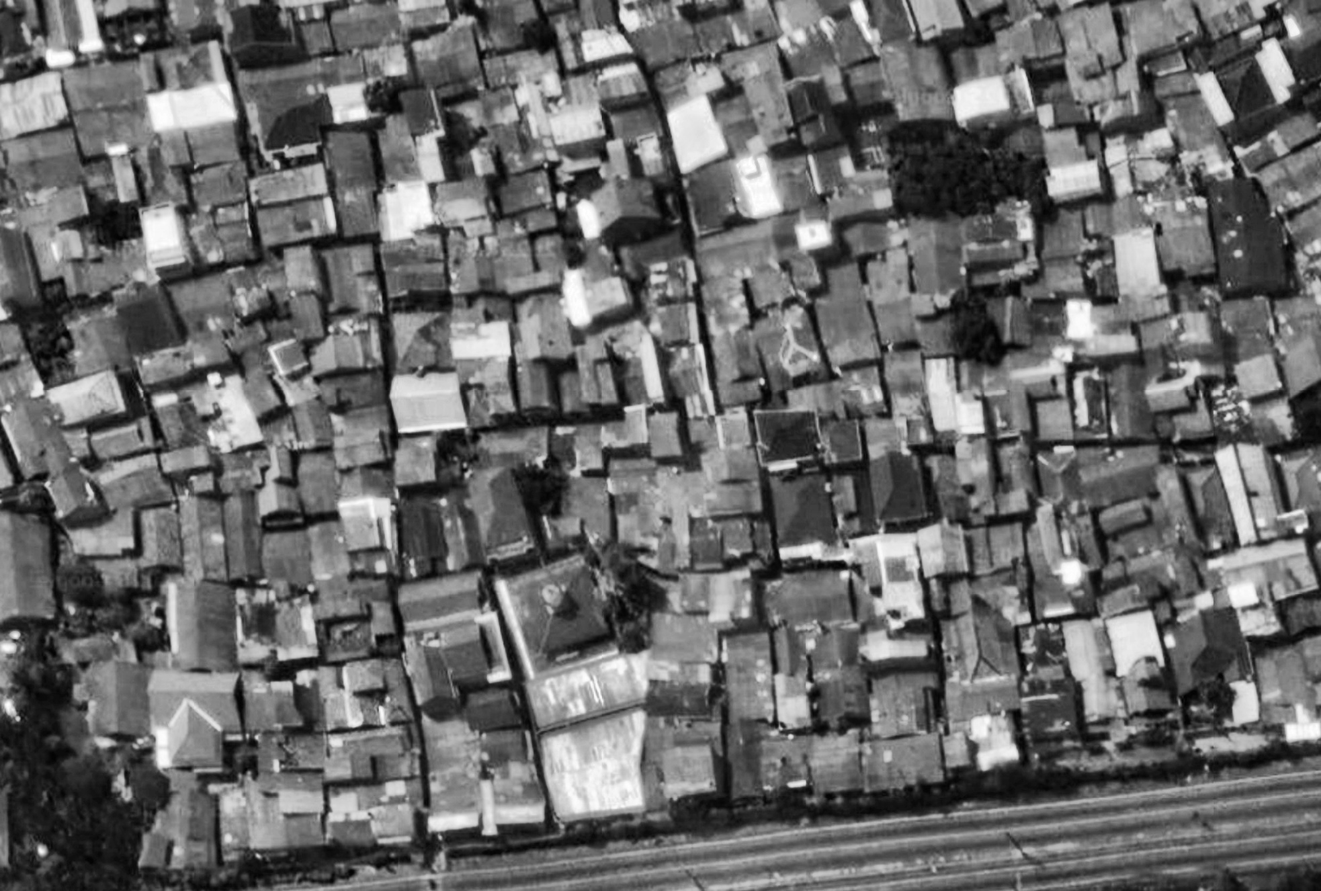building: (690, 212, 835, 407), (1230, 104, 1321, 295), (491, 549, 620, 680), (394, 570, 500, 718), (0, 389, 104, 532), (136, 39, 245, 174), (536, 707, 657, 824), (606, 452, 714, 579), (923, 350, 1070, 441), (523, 643, 659, 733), (1204, 171, 1295, 303), (1003, 619, 1086, 749), (146, 666, 245, 774), (1147, 66, 1236, 183), (59, 55, 156, 162), (1206, 529, 1321, 618), (445, 295, 521, 429), (1158, 595, 1256, 698), (233, 47, 336, 140), (317, 654, 415, 746), (1212, 435, 1291, 548), (419, 704, 487, 835), (459, 459, 540, 567), (692, 217, 796, 299), (570, 168, 669, 254), (165, 255, 267, 338), (1054, 0, 1133, 106), (247, 161, 339, 252), (646, 612, 720, 725), (477, 723, 551, 833), (235, 769, 327, 854), (142, 772, 221, 870), (1057, 614, 1125, 727), (320, 125, 386, 241), (852, 531, 927, 632), (283, 243, 384, 318), (877, 35, 956, 130), (164, 573, 239, 673), (442, 88, 521, 181), (733, 42, 801, 149), (941, 593, 1018, 685), (1149, 182, 1218, 283), (56, 235, 150, 308), (392, 564, 490, 633), (1032, 298, 1139, 361), (325, 775, 421, 845), (768, 470, 840, 563), (809, 286, 885, 374), (407, 19, 489, 100), (553, 250, 636, 330), (0, 124, 86, 201), (616, 0, 702, 77), (107, 275, 183, 361), (321, 722, 420, 788), (0, 510, 56, 626), (535, 472, 618, 550), (134, 331, 233, 396), (992, 4, 1073, 83), (656, 92, 732, 176), (1252, 632, 1321, 724), (1066, 444, 1162, 510), (60, 300, 135, 381), (761, 566, 855, 630), (862, 245, 919, 350), (1251, 139, 1321, 223), (194, 373, 264, 457), (905, 216, 968, 309), (863, 447, 932, 531), (45, 367, 130, 435), (378, 229, 452, 306), (1180, 459, 1241, 552), (92, 449, 173, 519), (679, 157, 749, 237), (387, 368, 468, 437), (770, 0, 838, 82), (860, 731, 947, 795), (1099, 125, 1172, 201), (185, 198, 259, 271), (84, 659, 150, 739), (1040, 124, 1105, 205), (1118, 0, 1204, 61), (0, 69, 72, 141), (255, 91, 336, 155), (1119, 537, 1190, 610), (483, 110, 553, 184), (392, 493, 450, 581), (721, 630, 775, 724), (1274, 296, 1321, 402), (760, 317, 829, 389), (817, 0, 885, 72), (782, 74, 843, 153), (943, 676, 1022, 737), (178, 494, 230, 585), (20, 208, 82, 284), (369, 110, 427, 191), (1113, 652, 1177, 725), (328, 404, 396, 472), (239, 667, 305, 736), (959, 204, 1028, 270), (326, 0, 405, 57), (870, 672, 938, 738), (754, 404, 822, 469), (1104, 607, 1167, 677), (512, 292, 574, 363), (1102, 362, 1155, 445), (663, 341, 717, 422), (249, 444, 303, 525), (969, 564, 1034, 631), (726, 704, 770, 802), (1016, 685, 1085, 747), (809, 664, 871, 733), (219, 492, 266, 583), (706, 85, 765, 157), (1108, 227, 1165, 301), (1216, 54, 1278, 122), (823, 167, 895, 225), (41, 0, 104, 66), (952, 433, 1000, 518), (1024, 502, 1079, 576), (462, 356, 518, 428), (544, 95, 610, 156), (1140, 310, 1217, 362), (730, 148, 784, 222), (658, 740, 722, 802), (391, 310, 451, 376), (478, 0, 551, 54), (376, 178, 437, 242), (151, 392, 210, 458), (1042, 210, 1086, 298), (572, 332, 621, 411), (443, 227, 498, 297), (709, 324, 767, 390), (807, 731, 865, 797), (1090, 86, 1159, 141), (138, 203, 192, 273), (964, 709, 1023, 773), (486, 229, 541, 297), (1218, 293, 1277, 356), (481, 44, 560, 91), (65, 510, 137, 561), (1251, 36, 1303, 106), (87, 416, 158, 467), (259, 528, 314, 593), (1029, 569, 1094, 624), (947, 72, 1013, 126), (981, 372, 1034, 439), (476, 425, 553, 471), (186, 159, 252, 212), (0, 223, 41, 308), (914, 519, 970, 581), (212, 782, 255, 862), (269, 596, 320, 663), (430, 175, 493, 229), (921, 355, 964, 434), (625, 328, 668, 407), (235, 361, 288, 425), (758, 732, 811, 795), (882, 349, 929, 420), (318, 367, 389, 414), (1276, 449, 1321, 523), (649, 56, 707, 113), (294, 450, 341, 520), (768, 150, 820, 213), (303, 518, 353, 583), (210, 450, 268, 506), (705, 569, 757, 631), (19, 184, 90, 229), (742, 258, 799, 314), (461, 684, 522, 736), (305, 329, 367, 380), (1061, 617, 1106, 687), (641, 255, 698, 309), (495, 166, 556, 216), (995, 439, 1035, 515), (700, 440, 762, 489), (1043, 157, 1105, 206), (592, 58, 649, 111), (448, 316, 512, 363), (137, 506, 183, 571), (395, 82, 445, 141), (945, 38, 1006, 86), (1231, 350, 1285, 404), (312, 577, 372, 625), (0, 354, 47, 415), (837, 364, 888, 420), (646, 299, 702, 350), (838, 213, 896, 262), (319, 616, 378, 664), (1035, 444, 1082, 504), (1067, 511, 1111, 575), (690, 9, 745, 60), (806, 622, 862, 672), (129, 144, 173, 207), (842, 57, 892, 112), (1248, 395, 1298, 450), (780, 243, 829, 299), (604, 452, 660, 501), (289, 396, 336, 454), (905, 0, 968, 43), (1095, 494, 1155, 539), (725, 0, 781, 48), (606, 100, 665, 145), (807, 145, 858, 197), (859, 630, 930, 667), (1194, 68, 1237, 129), (1070, 369, 1109, 436), (1143, 373, 1202, 417), (783, 76, 833, 127), (392, 435, 440, 488), (703, 478, 764, 519), (1096, 579, 1158, 619), (1282, 335, 1321, 398), (858, 411, 908, 460), (286, 288, 329, 344), (773, 672, 813, 732), (265, 334, 313, 384), (715, 513, 762, 564), (1195, 0, 1258, 38), (1167, 398, 1216, 445), (599, 405, 649, 451), (1283, 26, 1321, 86), (644, 409, 685, 463), (819, 418, 864, 467), (1286, 199, 1321, 262), (1008, 350, 1067, 387), (516, 362, 557, 414), (667, 569, 713, 615), (107, 143, 141, 205), (593, 136, 636, 185), (552, 13, 587, 73), (785, 382, 844, 417), (165, 0, 220, 37), (1106, 193, 1153, 236), (158, 443, 214, 479), (986, 522, 1027, 570), (1034, 396, 1075, 444), (770, 624, 807, 677), (361, 43, 410, 83), (397, 0, 451, 36), (1009, 354, 1069, 386), (629, 131, 668, 180), (688, 517, 724, 570), (326, 82, 370, 125), (1036, 98, 1093, 131), (713, 407, 754, 451), (318, 52, 367, 88), (999, 295, 1032, 348), (571, 424, 605, 475), (581, 29, 632, 63), (1235, 603, 1283, 639), (88, 557, 140, 590), (553, 368, 587, 417), (817, 62, 852, 107), (940, 730, 974, 773), (1230, 680, 1260, 726), (1095, 557, 1131, 593), (578, 0, 619, 29), (956, 397, 985, 436), (1083, 203, 1112, 238), (104, 0, 158, 18), (1115, 61, 1141, 97), (1058, 559, 1086, 586), (964, 0, 1004, 18), (649, 732, 672, 755), (558, 329, 571, 358), (1186, 574, 1196, 592)
tree: (888, 113, 1021, 220), (0, 768, 95, 863), (0, 626, 75, 711), (75, 795, 155, 874), (871, 768, 988, 821), (0, 699, 74, 781), (983, 754, 1082, 801), (8, 827, 79, 891), (47, 744, 112, 810), (949, 294, 1005, 369), (597, 540, 655, 608), (49, 553, 107, 616), (116, 761, 174, 819), (661, 787, 722, 841), (92, 193, 145, 254), (1181, 678, 1240, 730), (515, 460, 567, 518), (185, 855, 262, 891), (6, 478, 53, 525), (90, 587, 136, 634), (605, 211, 660, 247), (936, 20, 990, 55), (1020, 155, 1051, 210), (125, 617, 167, 656), (100, 740, 142, 778), (222, 740, 261, 776), (616, 618, 654, 654), (1293, 399, 1319, 450), (445, 117, 480, 153), (363, 81, 400, 114), (523, 19, 558, 53), (552, 211, 587, 242), (558, 239, 589, 271), (431, 465, 461, 495), (976, 282, 1016, 302), (429, 698, 460, 720), (1141, 726, 1170, 748), (435, 435, 457, 459)
